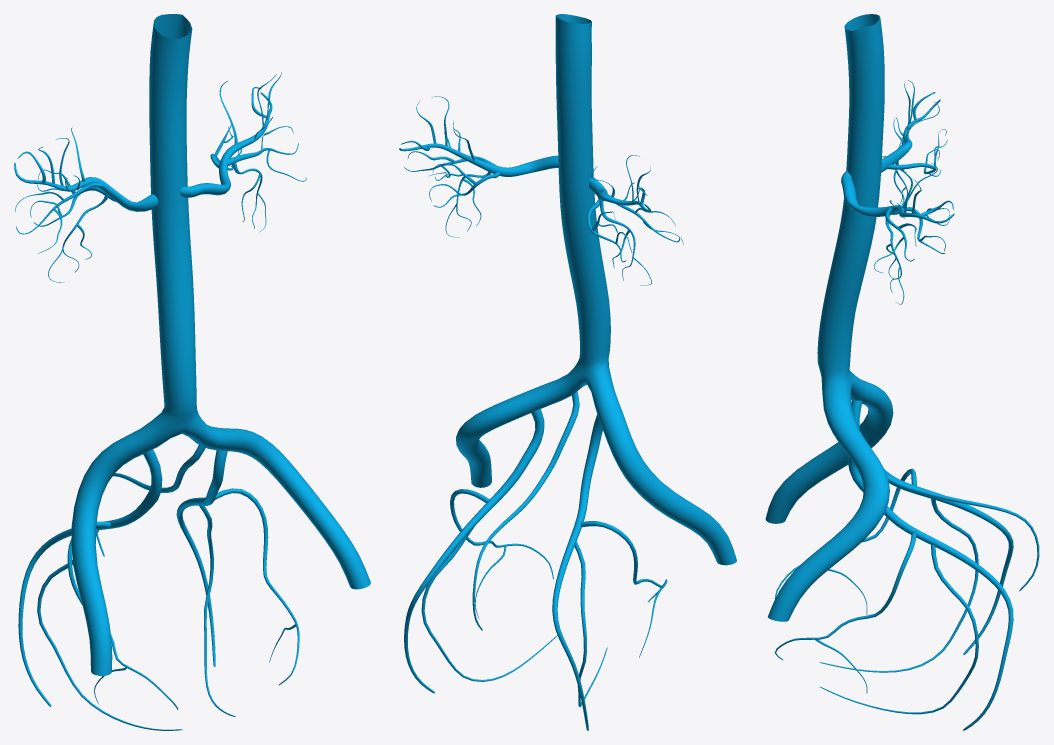
File: Veins.fbx
3 views of the same model, side by side, from view 1: azimuth 30°, elevation 25°; view 2: azimuth 150°, elevation 25°; view 3: azimuth 270°, elevation 25° (orthographic). The views are drawn at different scales.
Parts seen in each view (by area): view 1: Veins; view 2: Veins; view 3: Veins.
Boxes of the visible parts, x1,y1,x2,y2 form: Veins: (14,14,370,730); Veins: (399,14,736,730); Veins: (765,14,1039,730).
Size of the model in its own units: 16.6 by 38.87 by 14.44.
